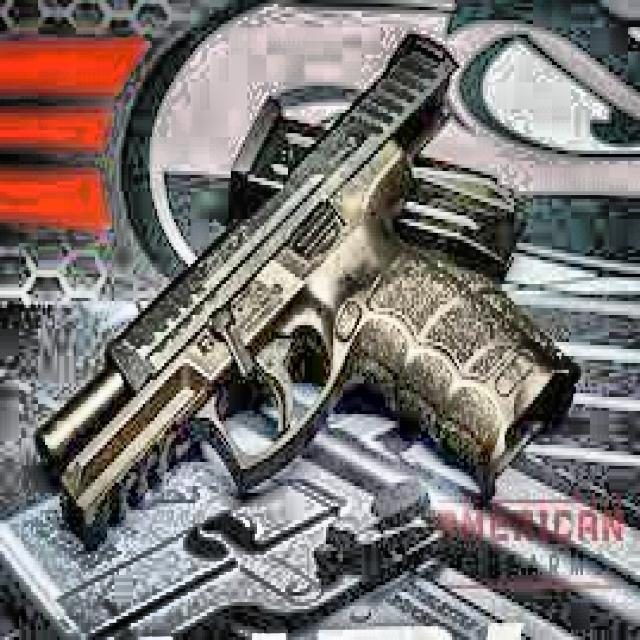HKVP9: (33, 28, 580, 544)
